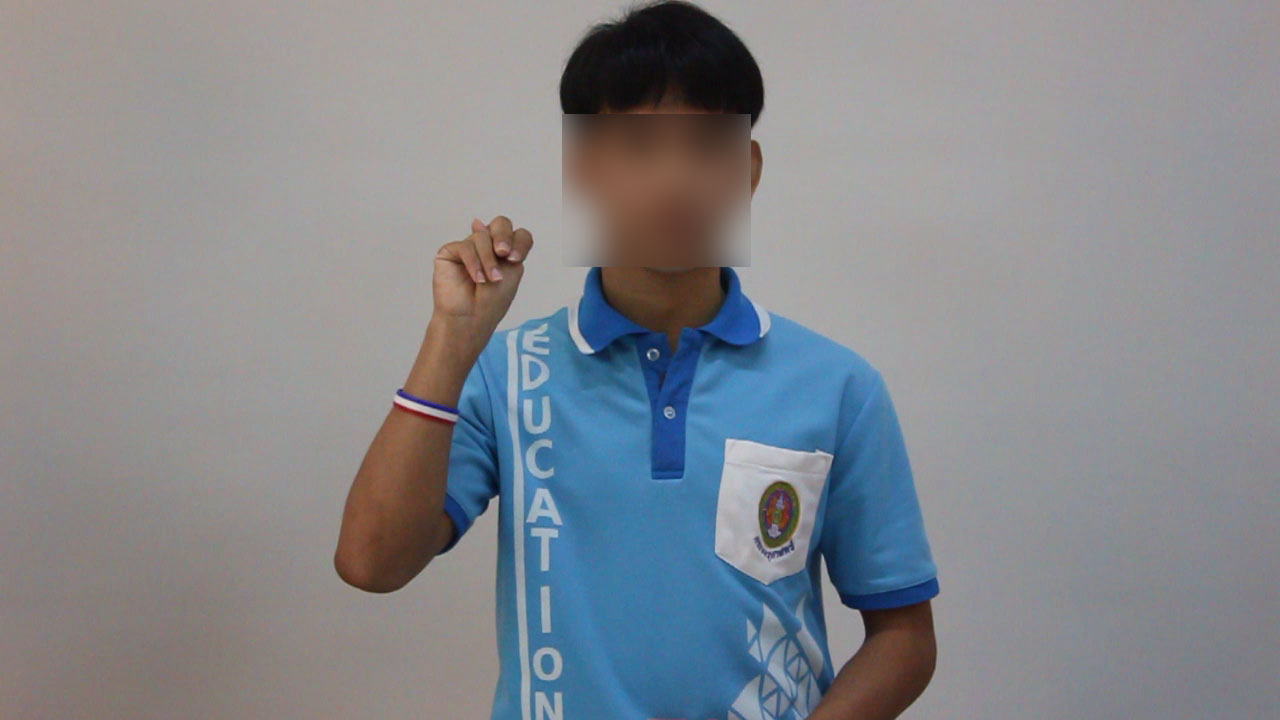nor: (419, 208, 545, 321)
